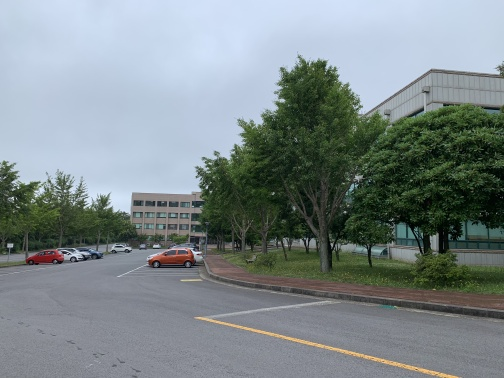Joint Experimental Labs: (128, 189, 209, 248)
Second Library: (346, 53, 504, 282), (357, 64, 504, 132), (387, 217, 504, 274)
